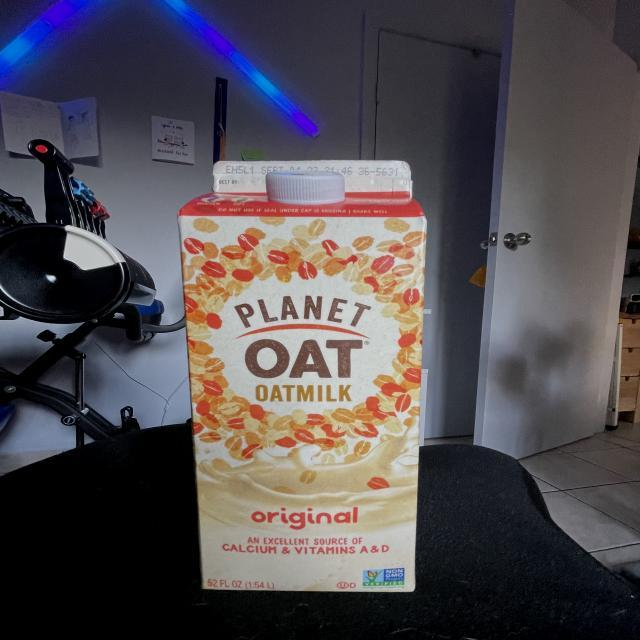Planet Oat Original: (163, 152, 444, 604)
